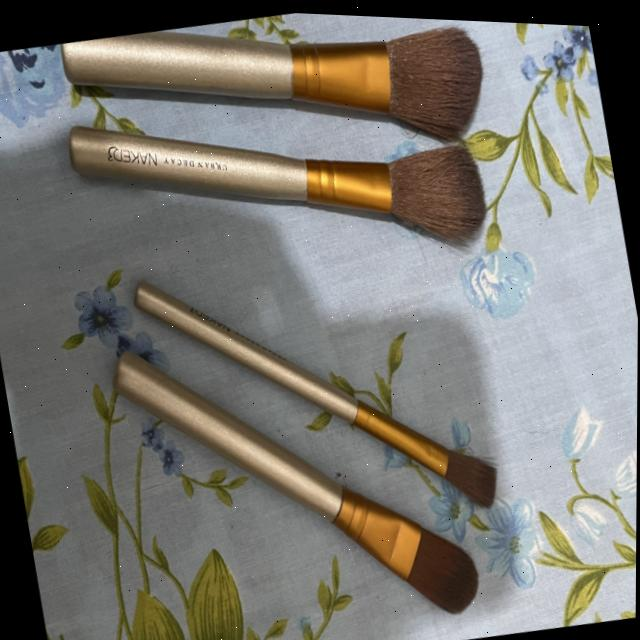brush: (79, 214, 527, 640), (38, 1, 542, 320), (344, 12, 536, 293), (386, 494, 514, 636), (428, 420, 535, 526)
